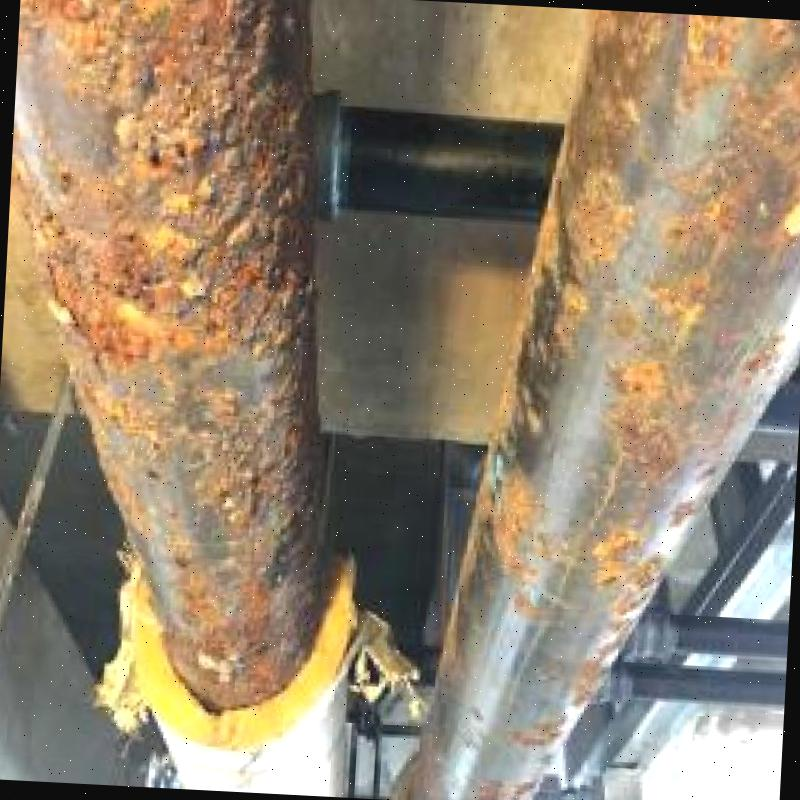corrosion: (0, 0, 363, 716)
